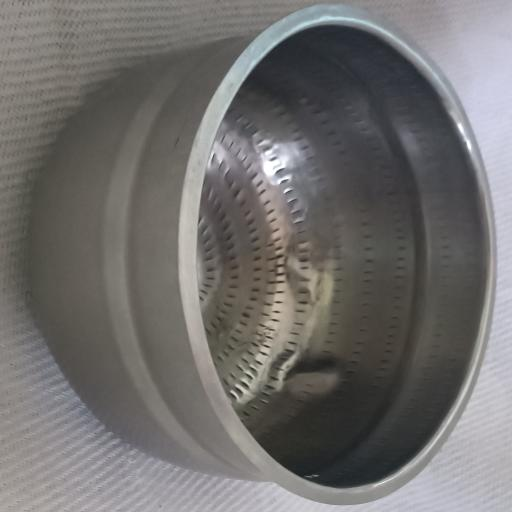vessel: (30, 5, 495, 504)
